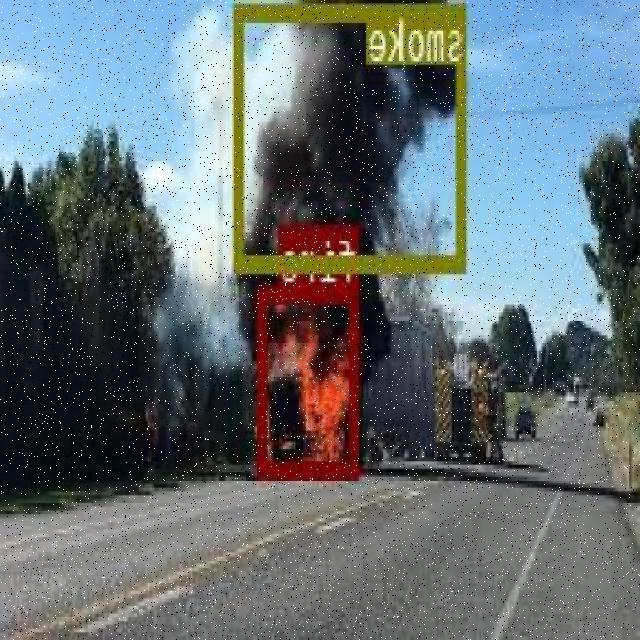smoke: (236, 1, 467, 270)
